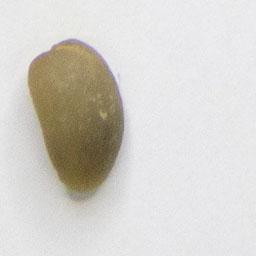longberry: (24, 34, 128, 197)
